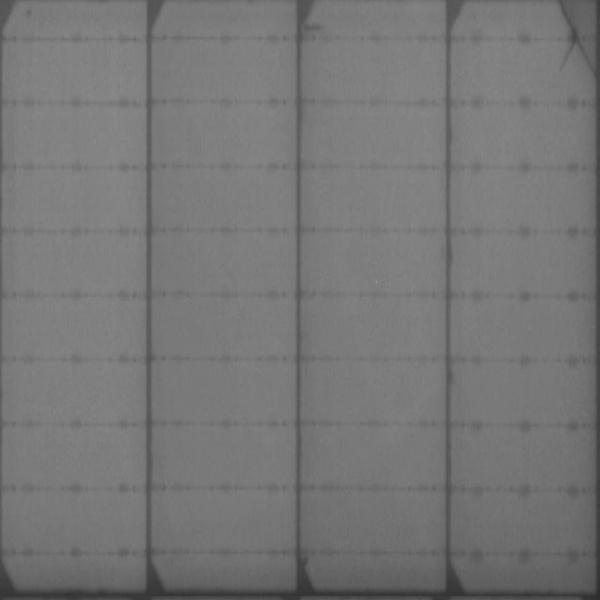broken: (561, 4, 600, 76)
